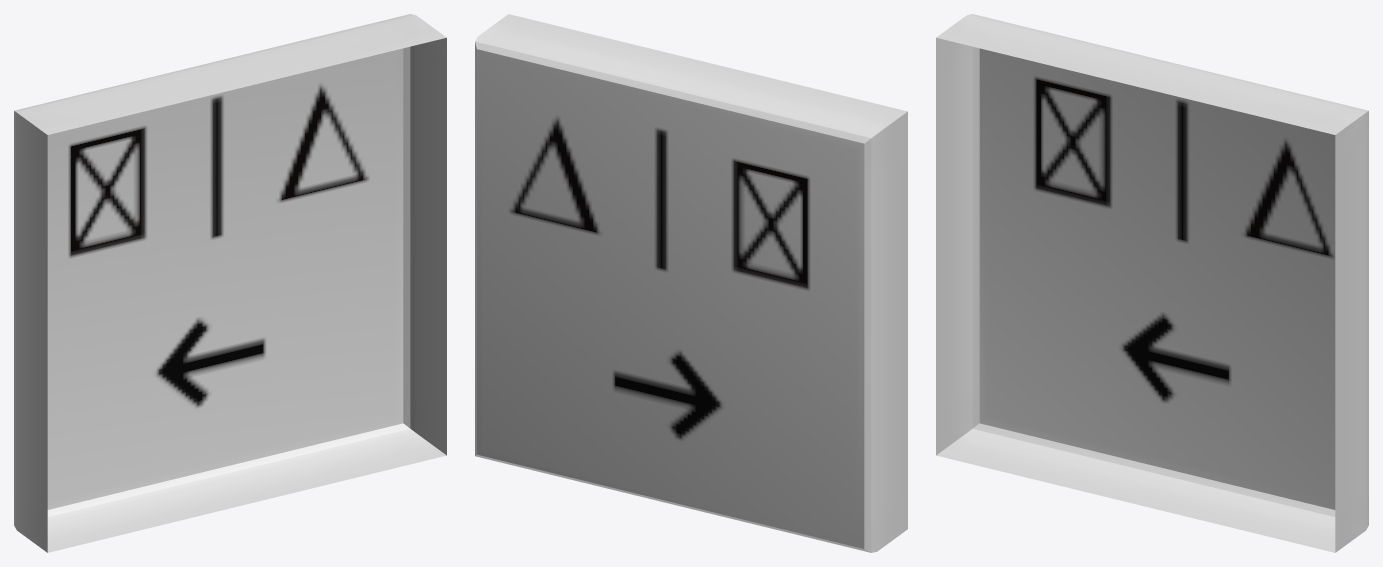
The model's file is sign.FBX.
3 renders of one model, left to right at view 1: azimuth 30°, elevation 25°; view 2: azimuth 150°, elevation 25°; view 3: azimuth 330°, elevation 25°, orthographic.
Parts seen in each view (by area): view 1: sign; view 2: sign; view 3: sign.
Boxes of the visible parts, x1,y1,x2,y2 form: sign: [14, 14, 446, 552]; sign: [475, 14, 907, 552]; sign: [936, 14, 1368, 552].
Bounding box in the file's own units: 30 × 30 × 5.
